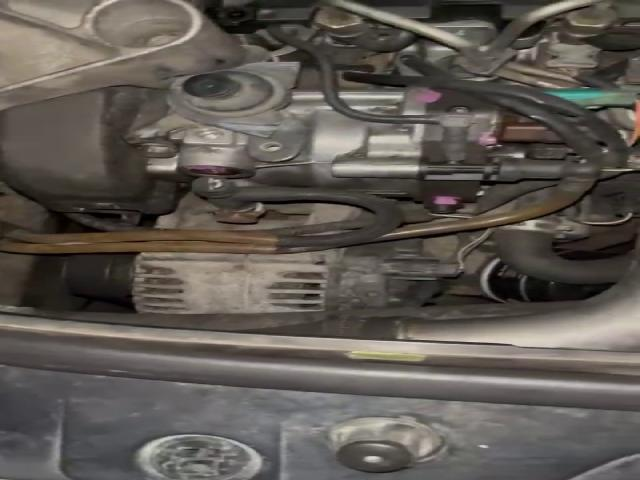alternator: (132, 249, 341, 314)
high_pressure_pump: (163, 88, 499, 213)
